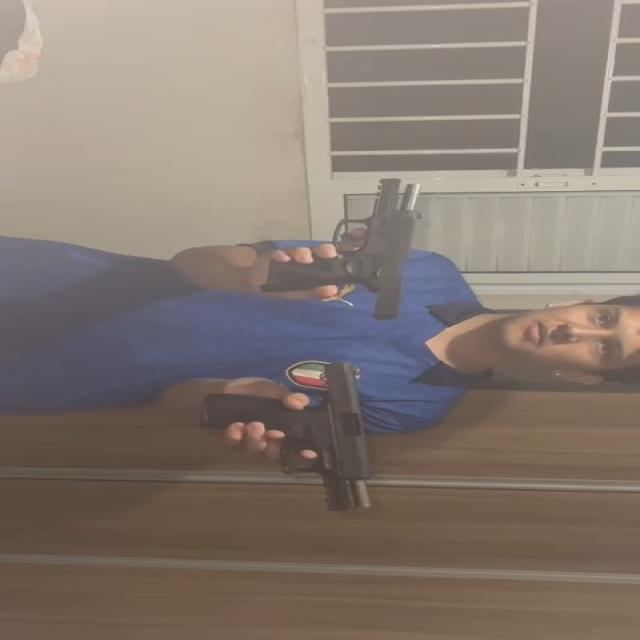guns: (202, 362, 376, 512), (253, 174, 427, 319)
